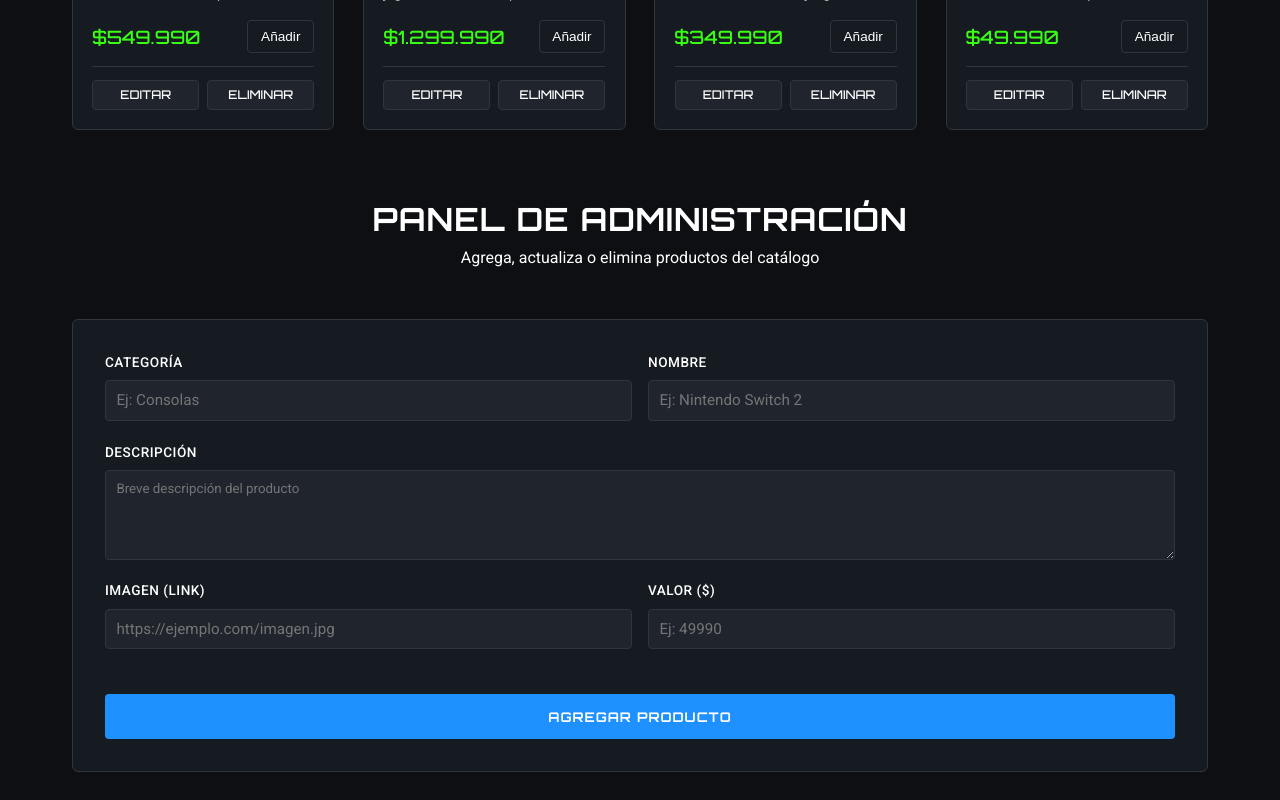
Test: pagina Inicio › CRUD de productos (admin) › agrega un producto válido y muestra toast de éxito
(page scrolled)
Type "Accesorios" into the field labelled "Categoría" at (368, 400), box [105, 380, 632, 421]
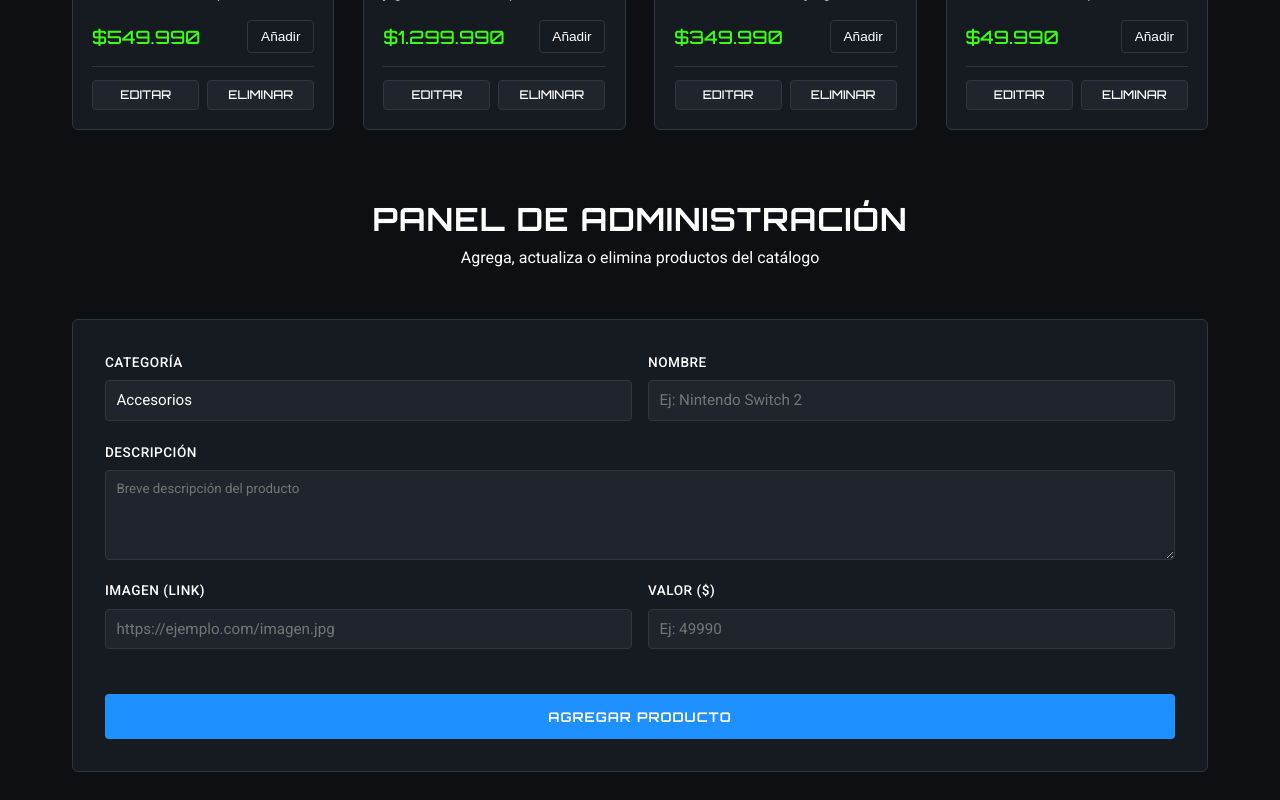
Type "Teclado Test" into the field with placeholder "Ej: Nintendo Switch 2" at (912, 400), box [648, 380, 1175, 421]
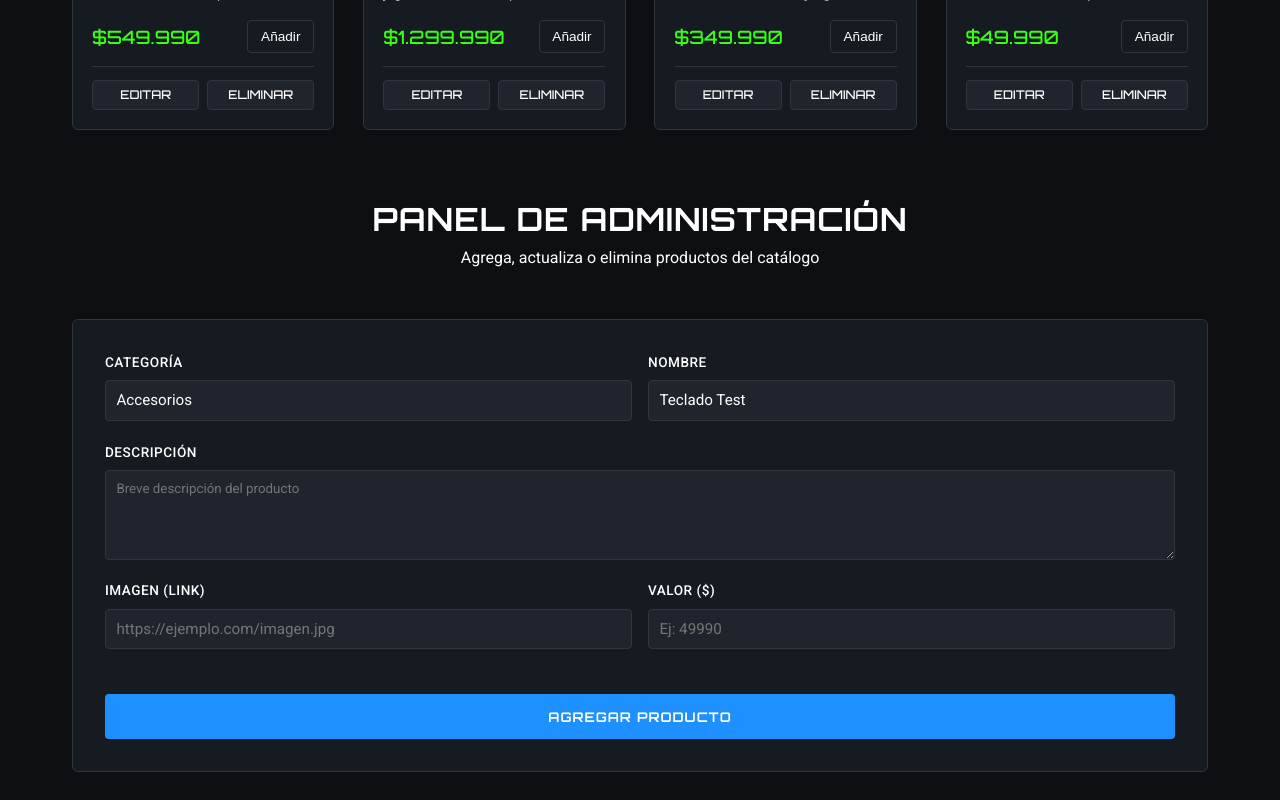
Type "Teclado de prueba para el unit test" into the text box with placeholder "Breve descripci.n" at (640, 515), box [105, 470, 1175, 560]
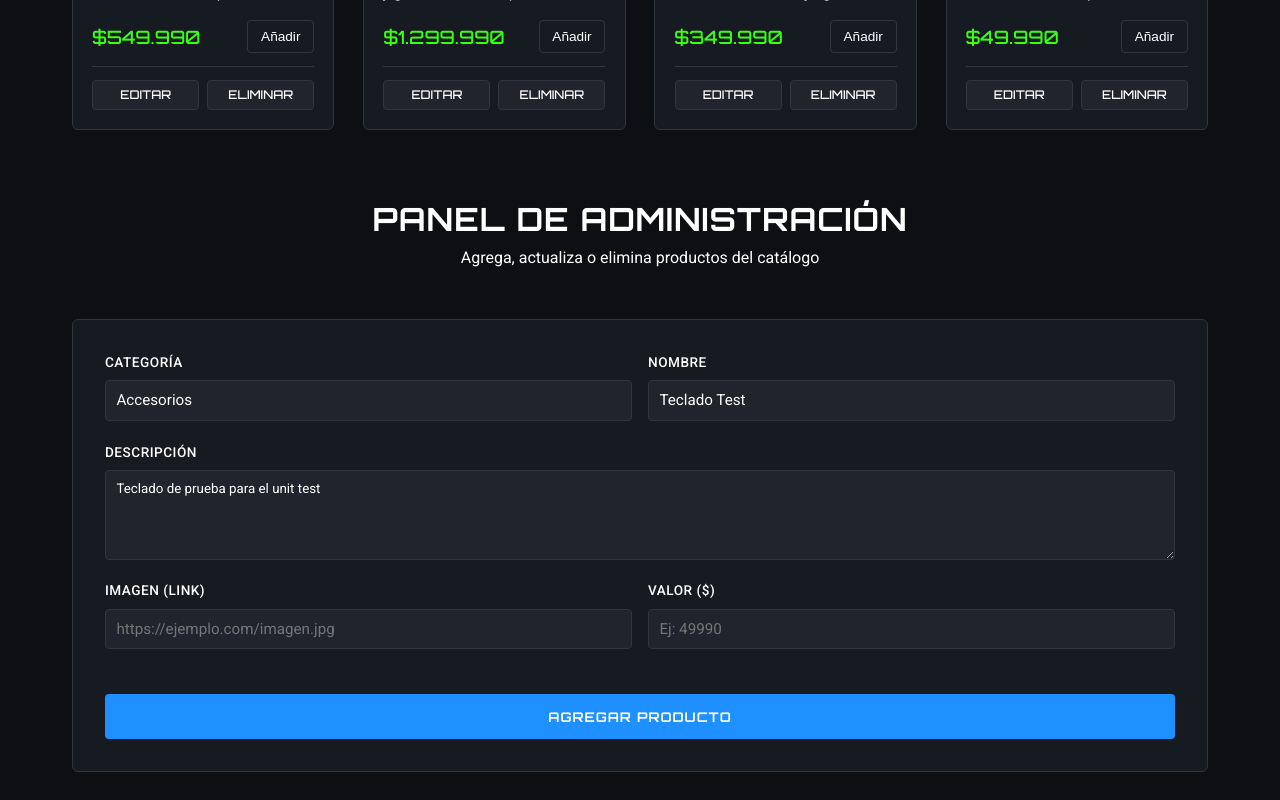
Type "https://example.com/teclado.jpg" into the field with placeholder "https://ejemplo.com/imagen.jpg" at (368, 629), box [105, 609, 632, 649]
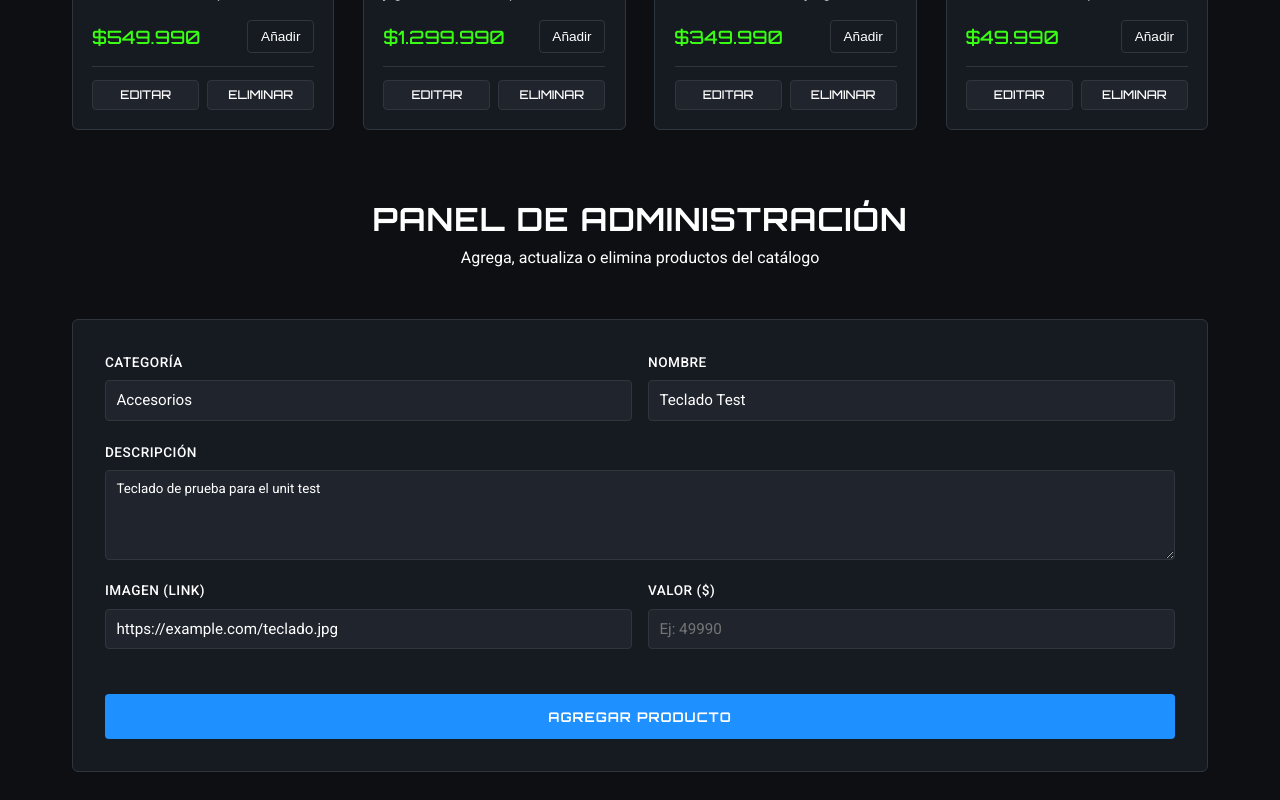
Type "1000" into the number field with placeholder "Ej: 49990" at (912, 629), box [648, 609, 1175, 649]
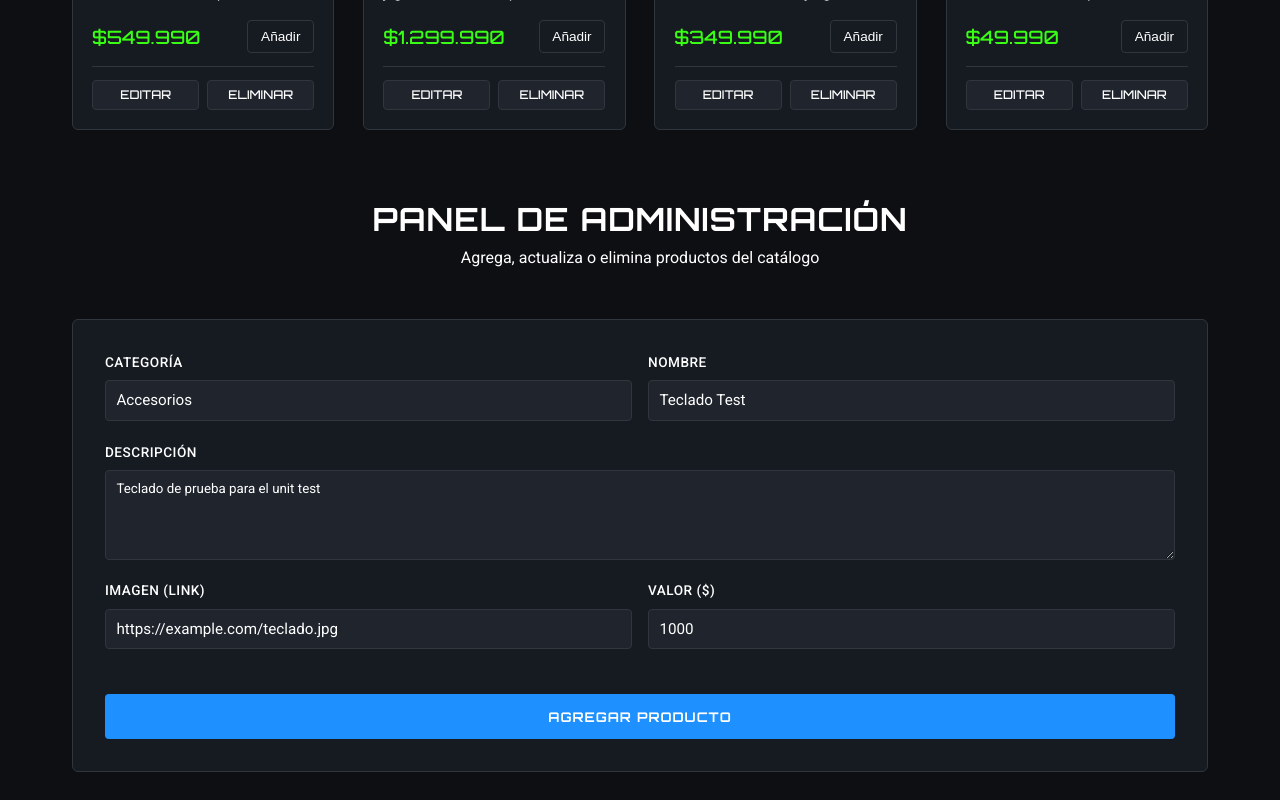
Click the button "Agregar producto" at (640, 717), box [105, 694, 1175, 739]
(page scrolled)
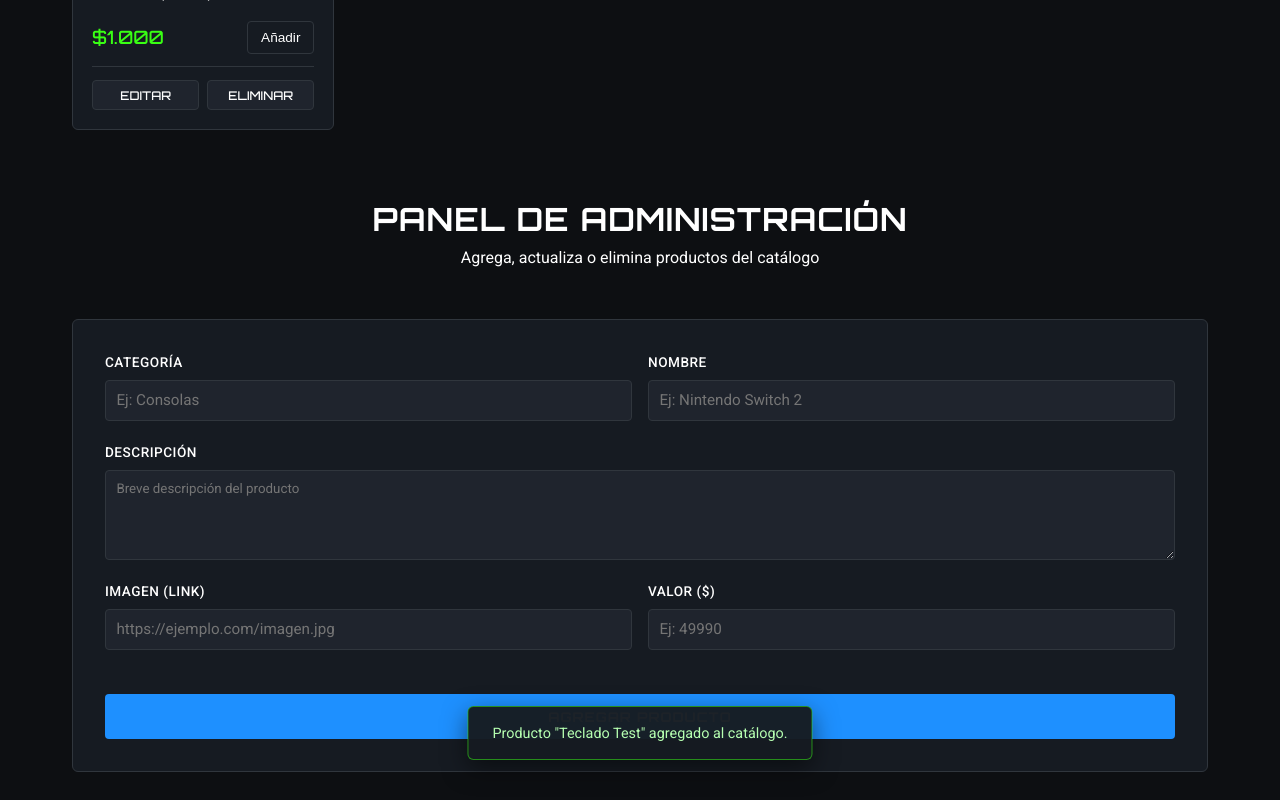
Check: the message shows "agregado al catálogo", box [492, 725, 788, 742]
Check: the field with placeholder "Ej: Nintendo Switch 2" is empty, box [648, 380, 1175, 421]
